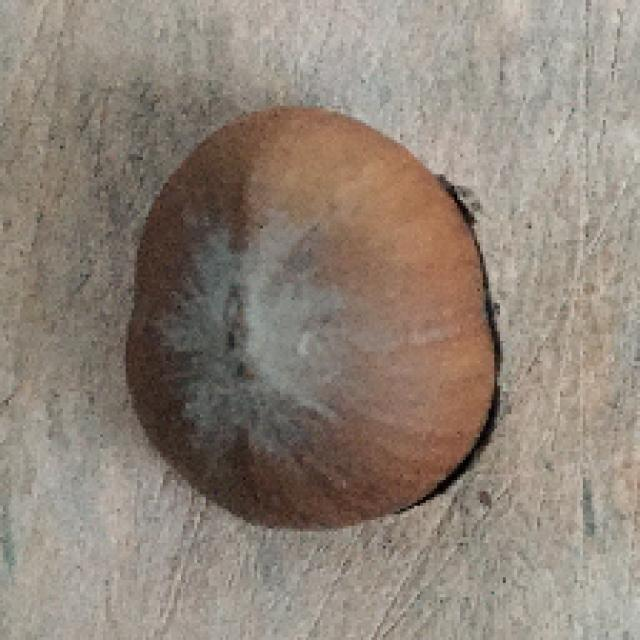damagedHazelnut: (118, 105, 516, 533)
